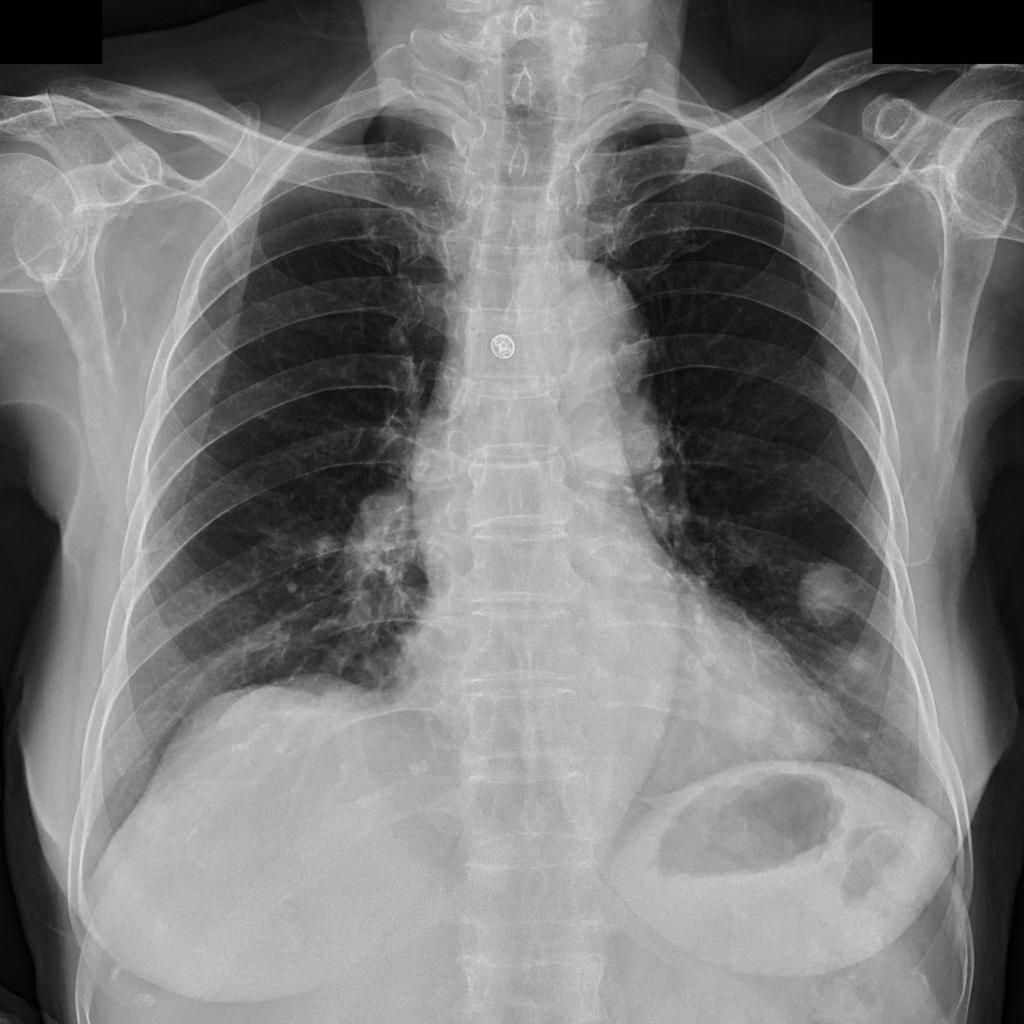Nodule: (796, 563, 856, 628), (818, 642, 871, 692), (734, 695, 776, 743), (795, 726, 832, 756)
